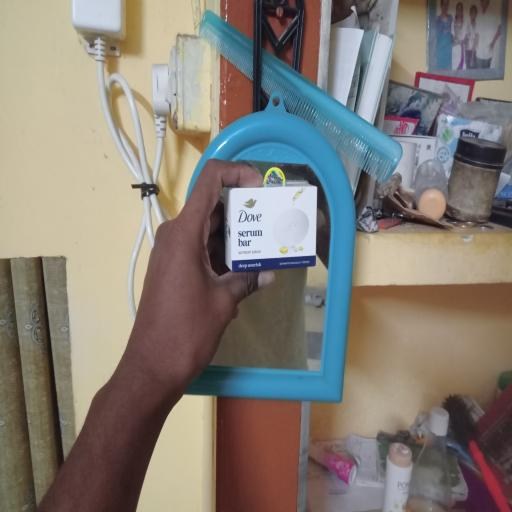Dove`1: (226, 186, 320, 273)
